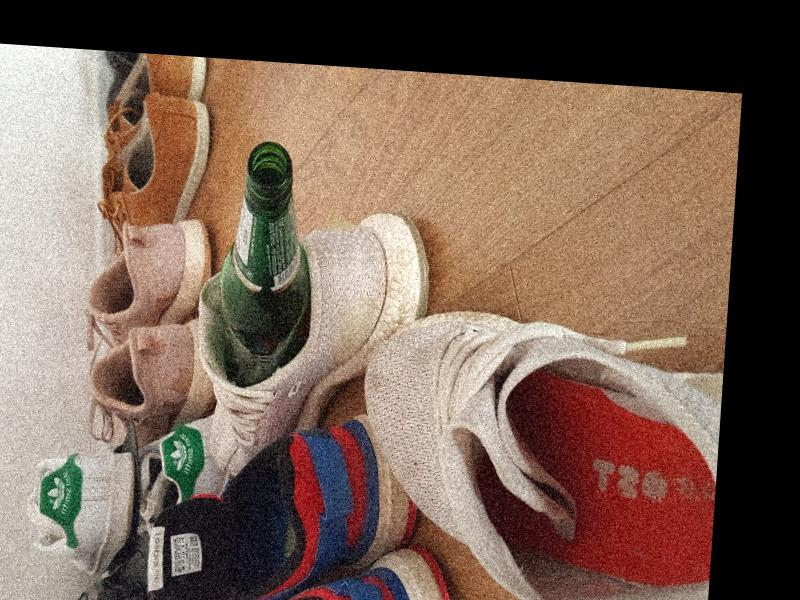Beer: (215, 139, 321, 390)
